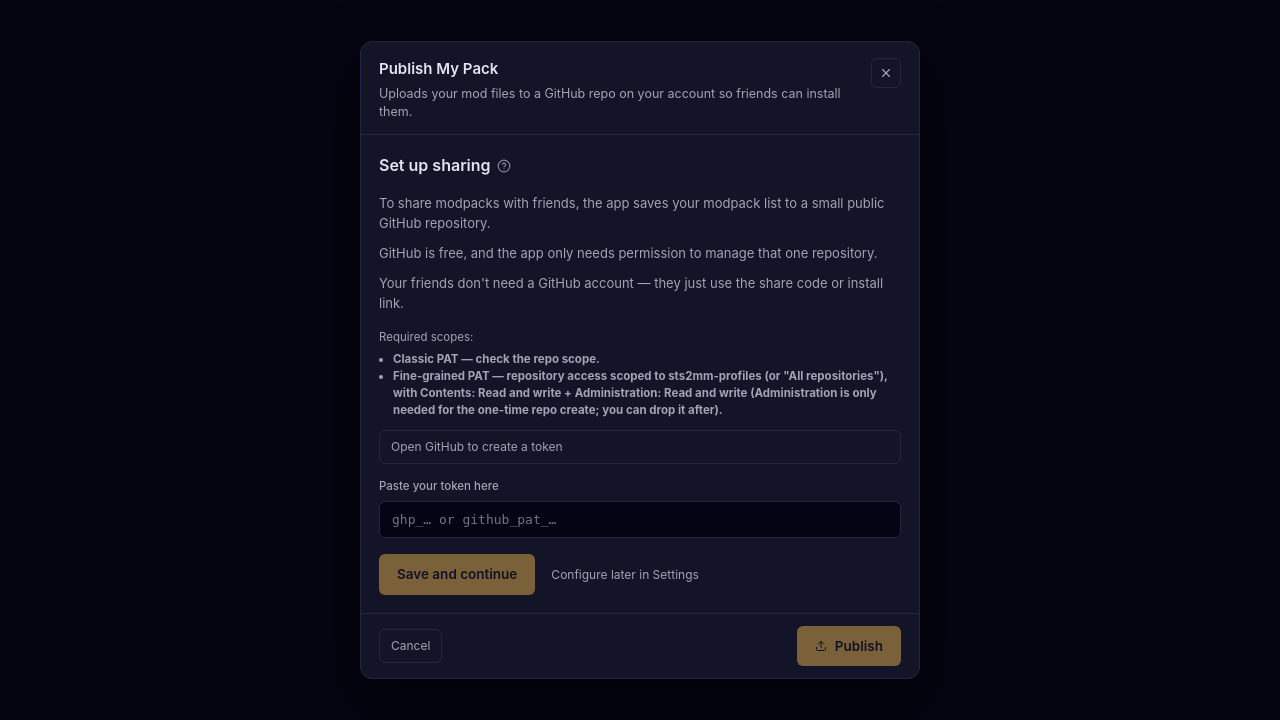
Test: <PublishModal> › Save token transitions to the publish flow without closing
// Wait for the ShareSetupPanel to mount.
Type "ghp_validtoken" into the password field labelled "Paste your token here" at point(640, 520), box [379, 501, 901, 538]
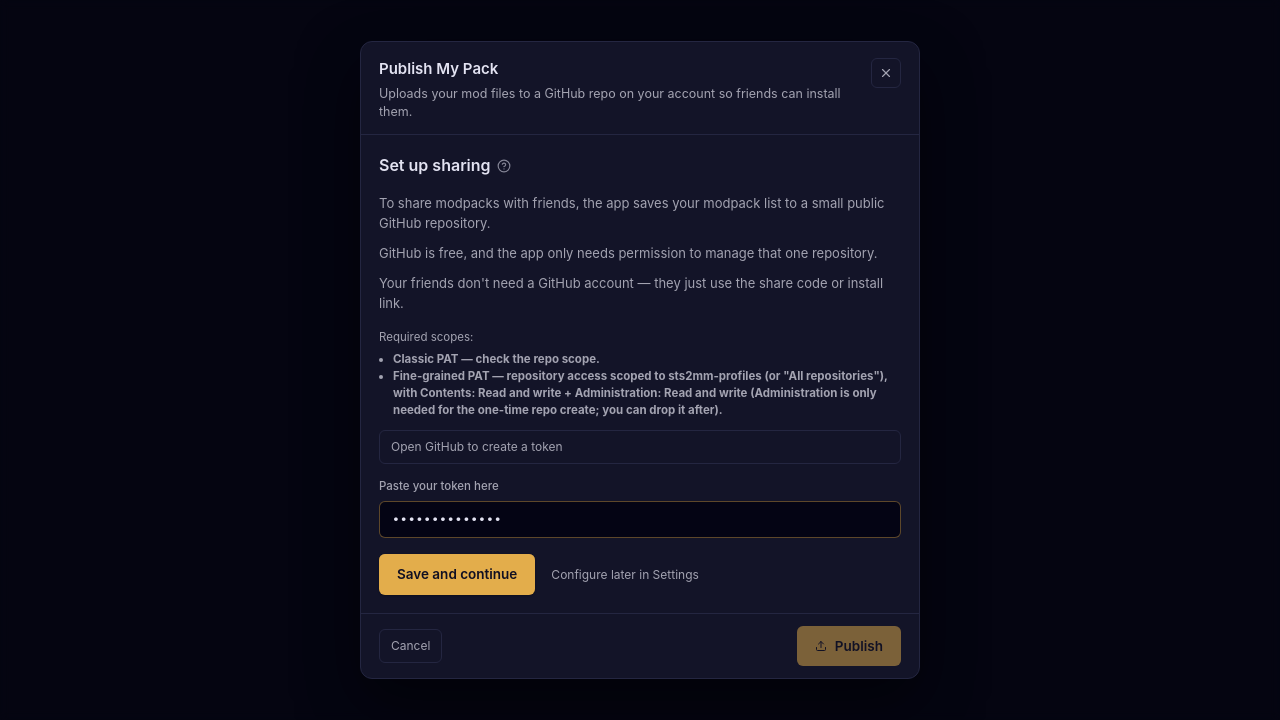
Click the button "Save and continue" at point(457, 575), box [379, 554, 535, 595]
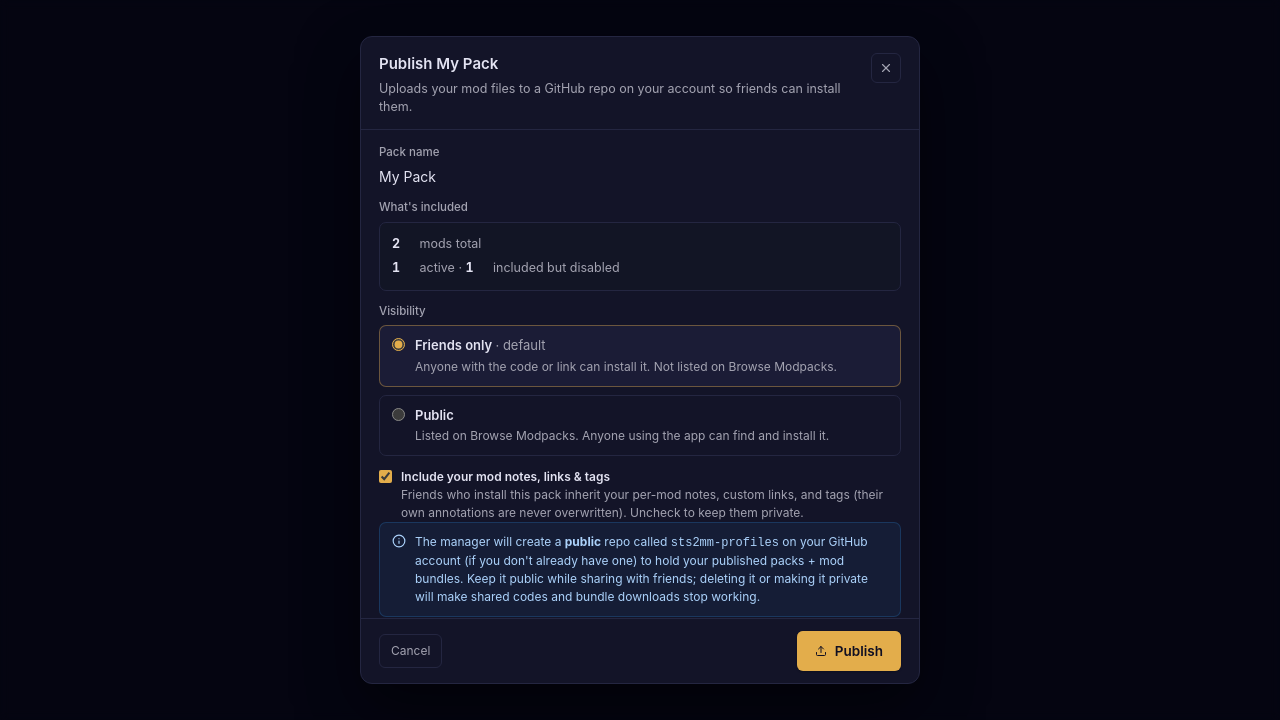
expect the text "Publish My Pack" is shown: met, box [379, 54, 498, 73]
expect the heading "Set up sharing" is gone: met
